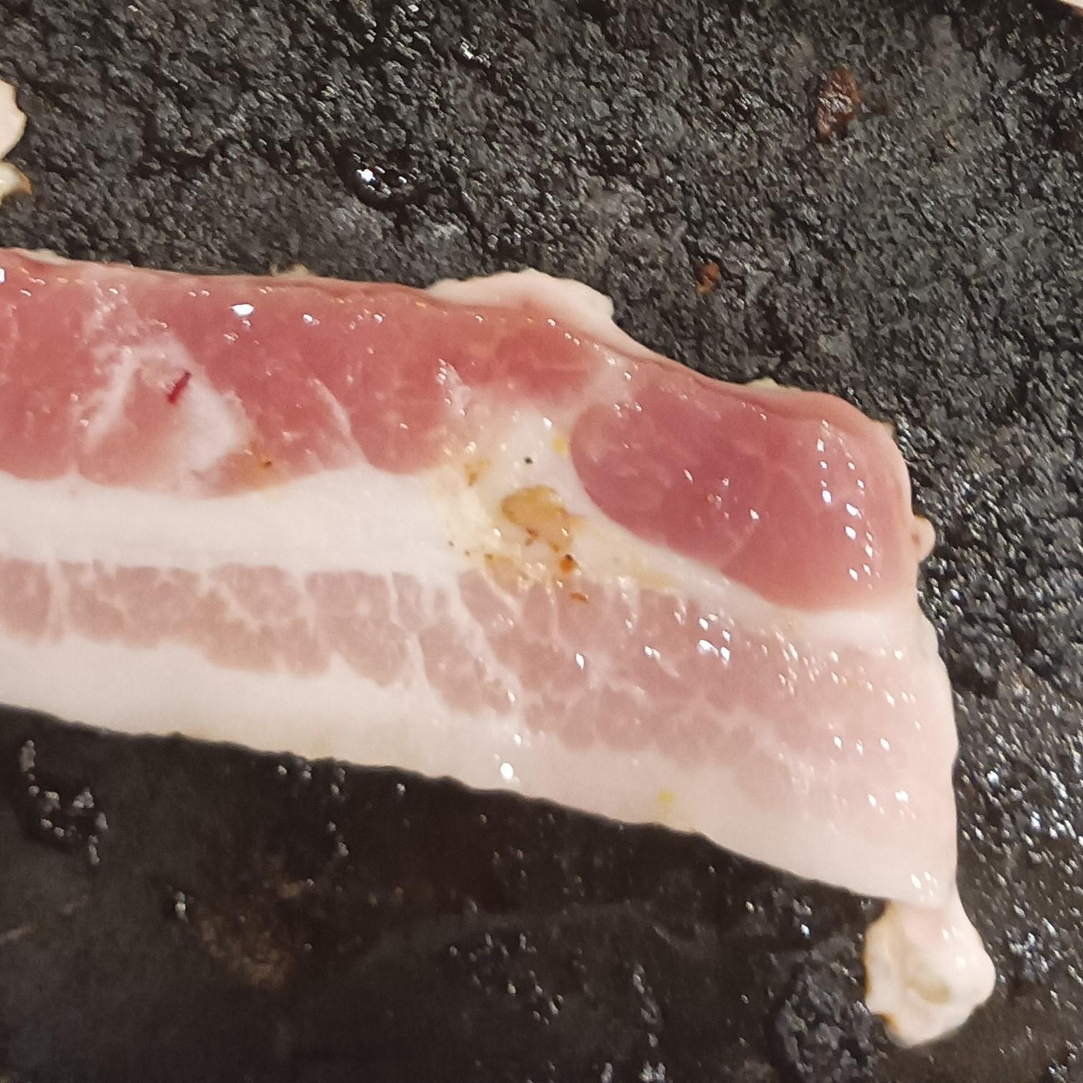Undercooked: (0, 251, 990, 1048)
